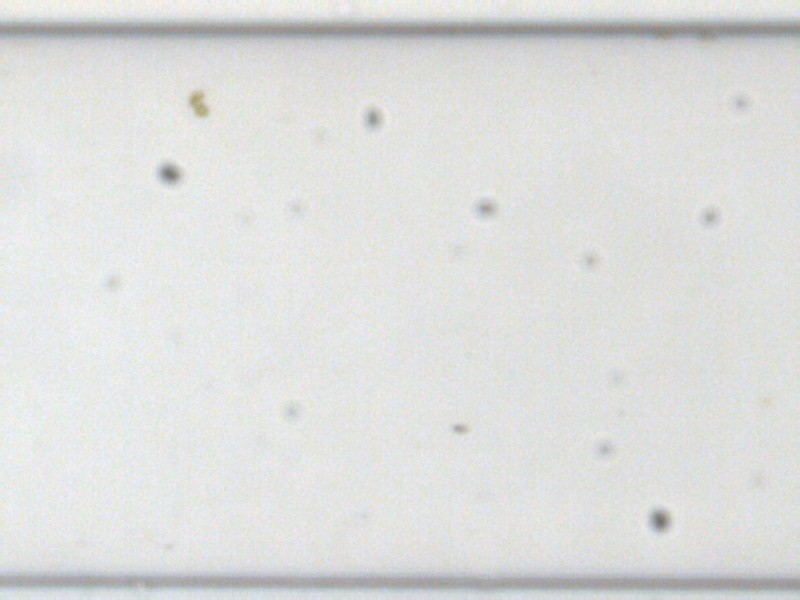Chlorella: (192, 101, 209, 116)
